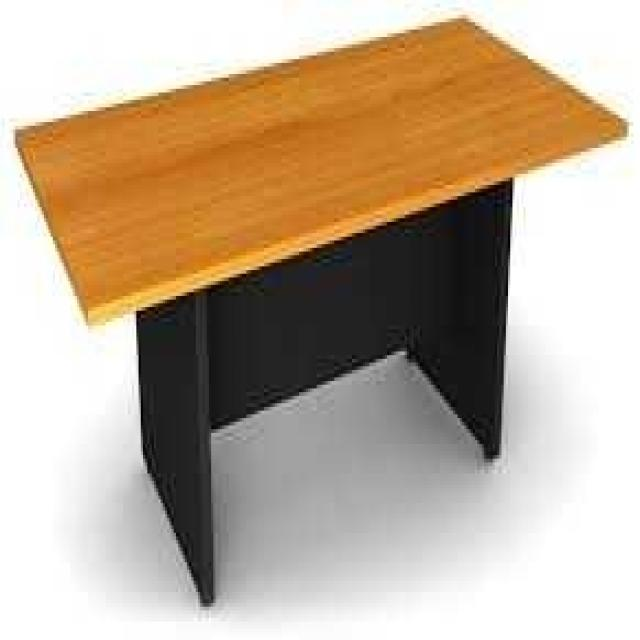table: (4, 8, 640, 614)
